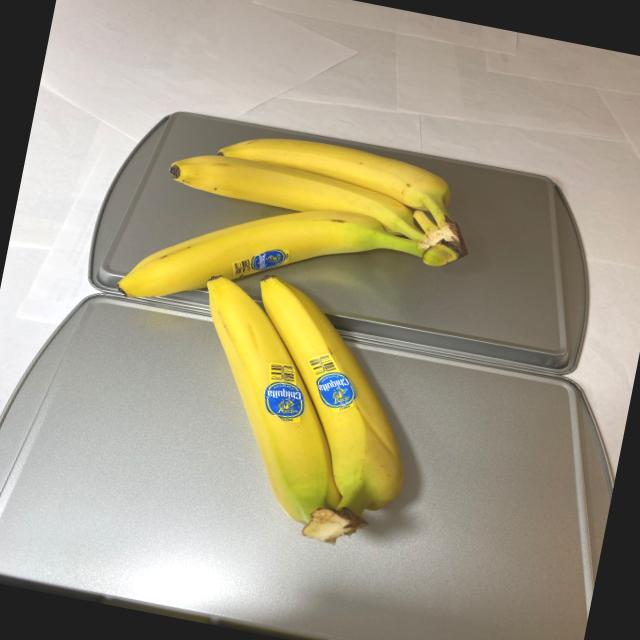banana: (110, 108, 490, 362), (156, 261, 445, 560)
